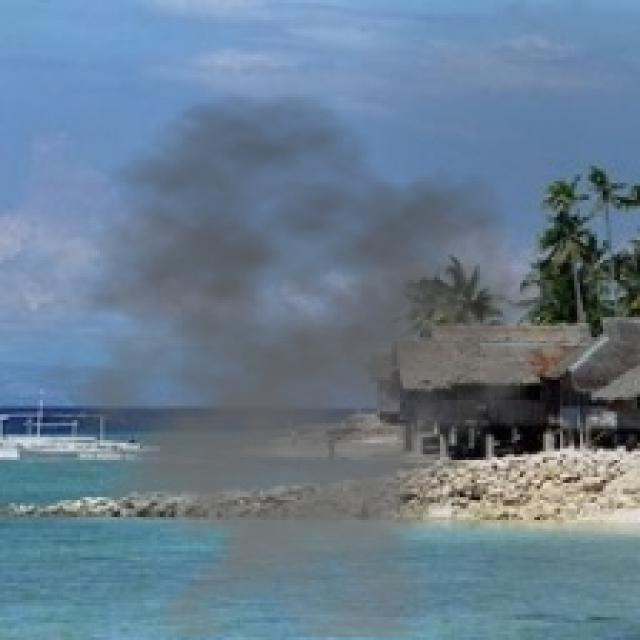Smoke: (8, 92, 560, 638)
